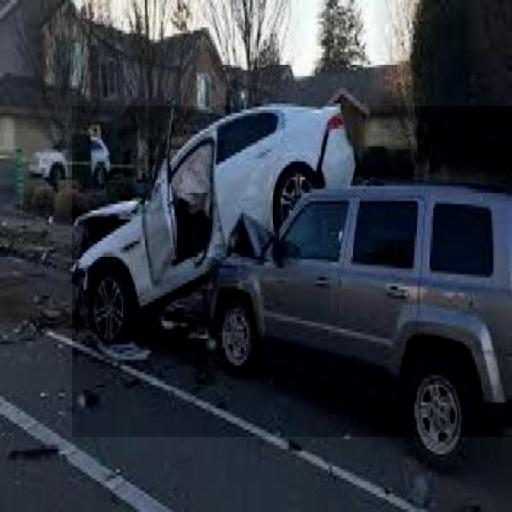小汽车撞小汽车: (72, 106, 512, 437)
